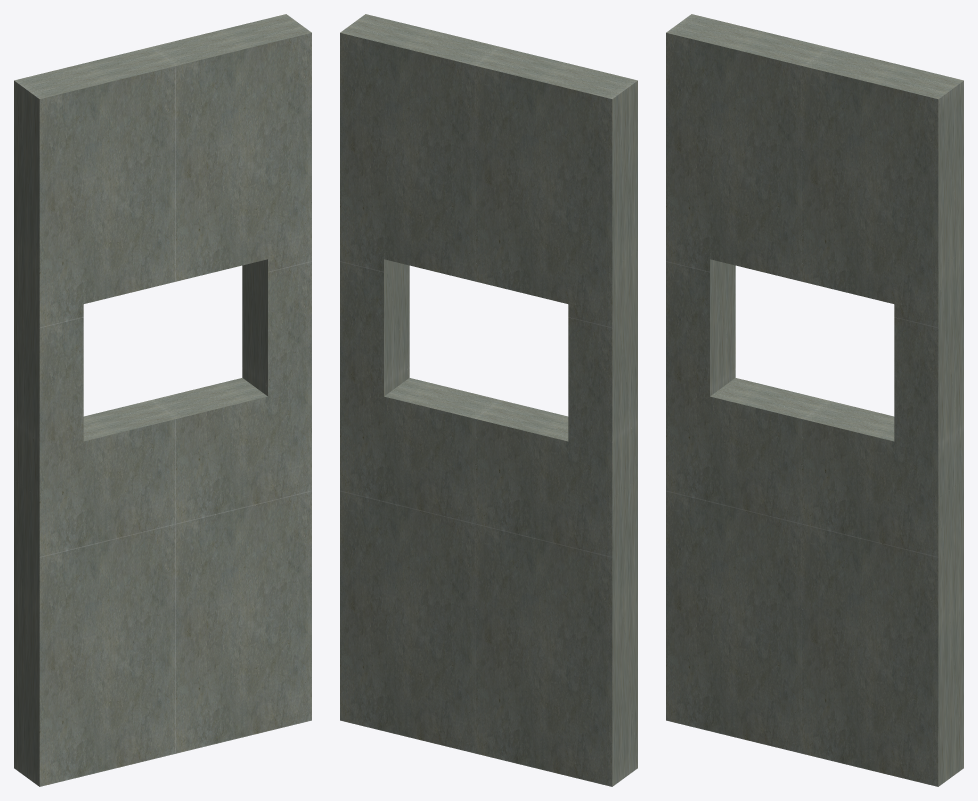
File: wall_window.FBX
3 renders of one model, left to right at view 1: azimuth 30°, elevation 25°; view 2: azimuth 150°, elevation 25°; view 3: azimuth 330°, elevation 25°, orthographic.
Parts seen in each view (by area): view 1: wall_window; view 2: wall_window; view 3: wall_window.
Boxes of the visible parts, x1,y1,x2,y2 form: wall_window: (14,14,311,786); wall_window: (340,14,637,786); wall_window: (666,14,963,786).
Bounding box in the file's own units: 1.24 × 2.99 × 0.2022.
